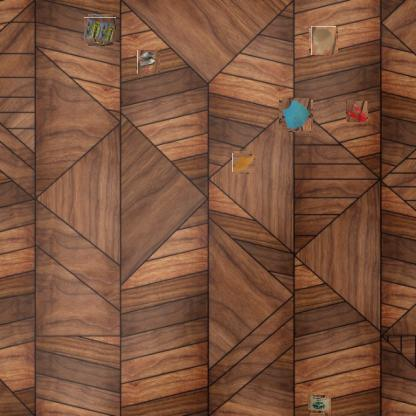dirty: (280, 100, 312, 132), (86, 16, 115, 44), (310, 27, 337, 54), (137, 51, 159, 74), (309, 394, 329, 414)
liquid: (233, 152, 254, 173), (347, 101, 368, 121)
